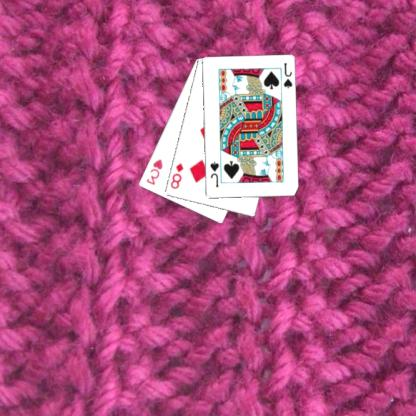3H: (145, 156, 165, 187)
8D: (169, 160, 186, 190)
JS: (209, 159, 222, 189), (282, 61, 295, 90)
